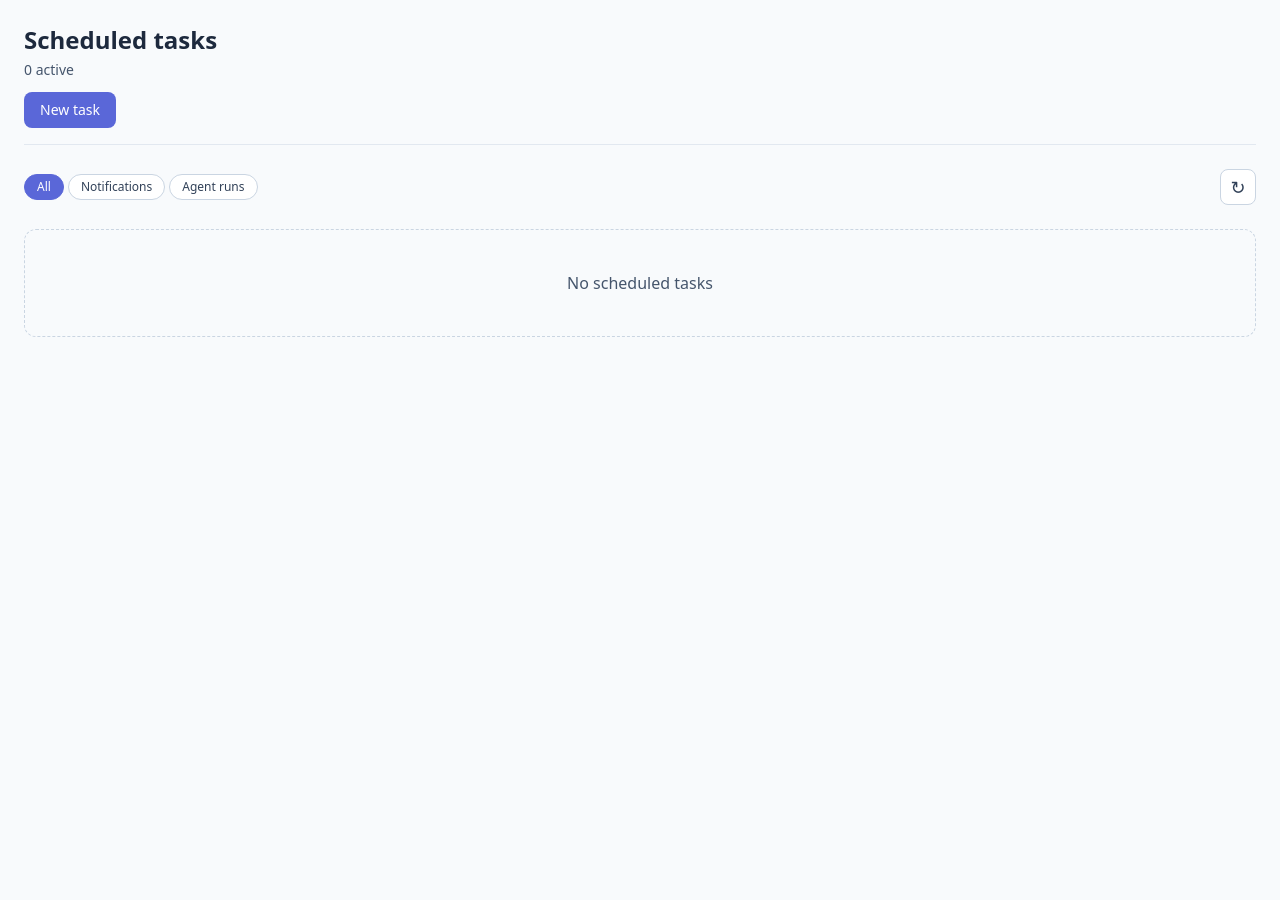
Test: ScheduledTasks › hides the Claude session filter and task type while claude_containers is off
This screenshot has width=1280, height=900.
expect the text "No scheduled tasks" is shown: met, box [567,272,713,294]
Click the button "New task".
click(70, 110)  # box [24,92,116,128]
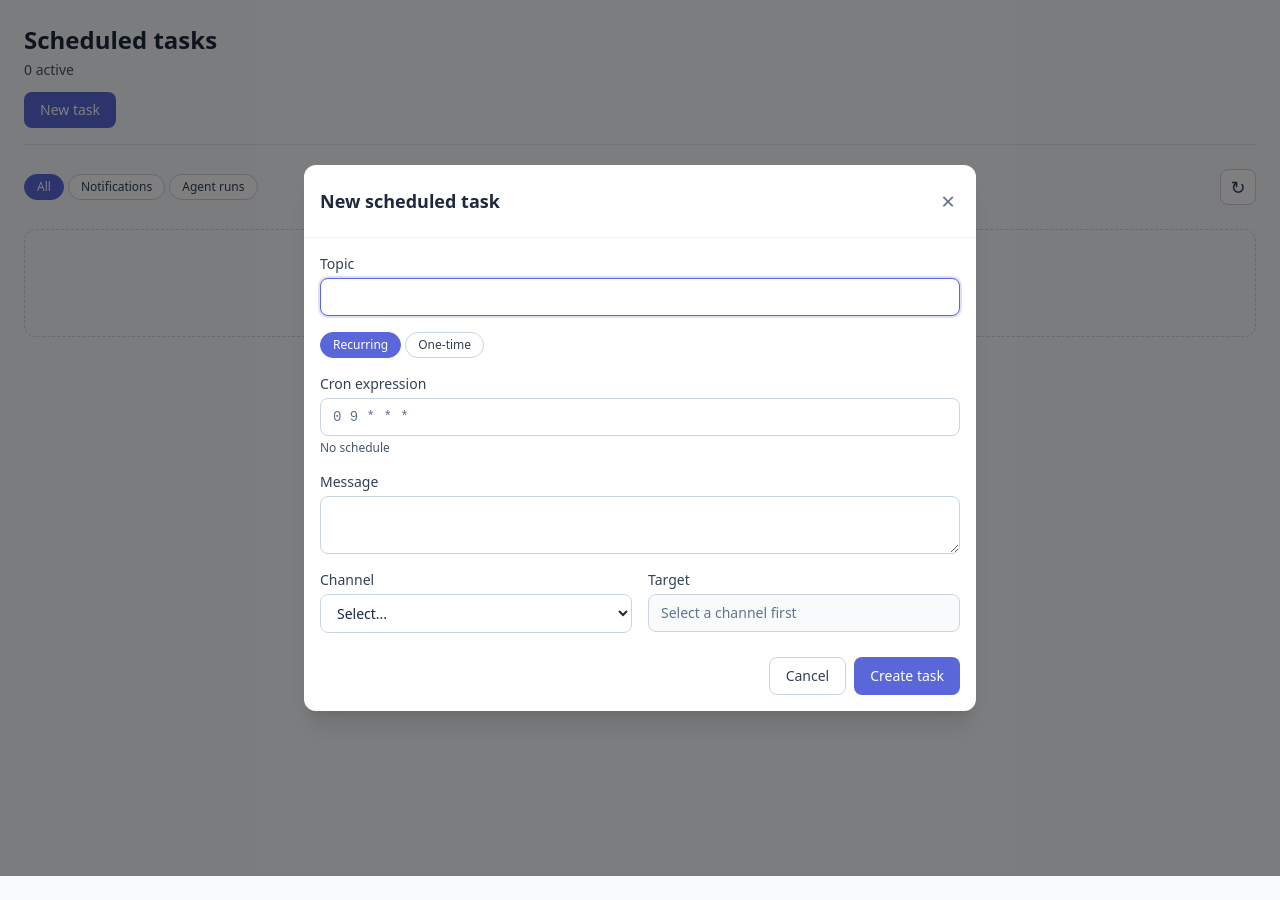
expect the text box labelled "Message" is shown: met, box [320,496,960,554]
